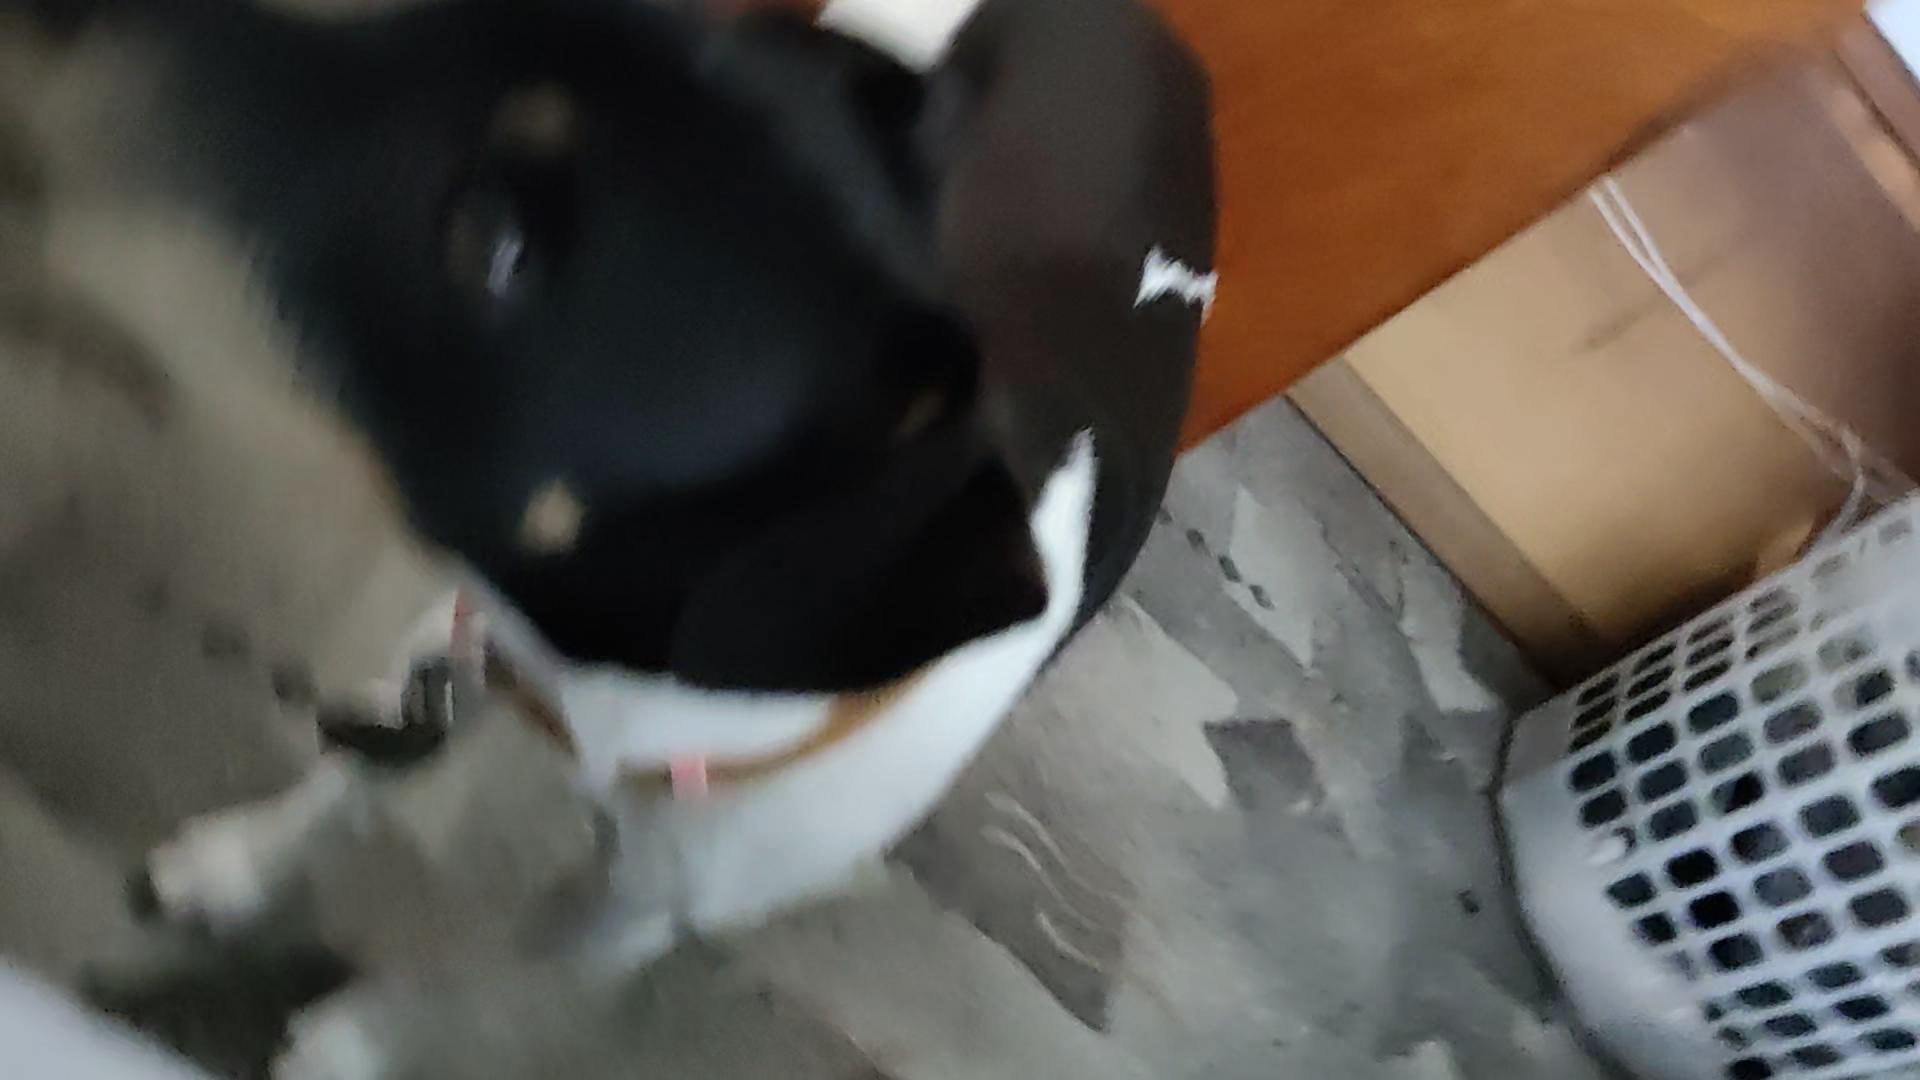Dog: (0, 0, 1236, 1080)
